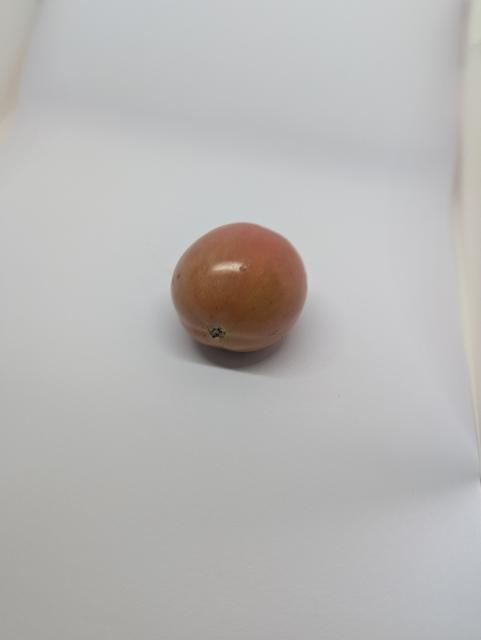red: (168, 217, 309, 353)
